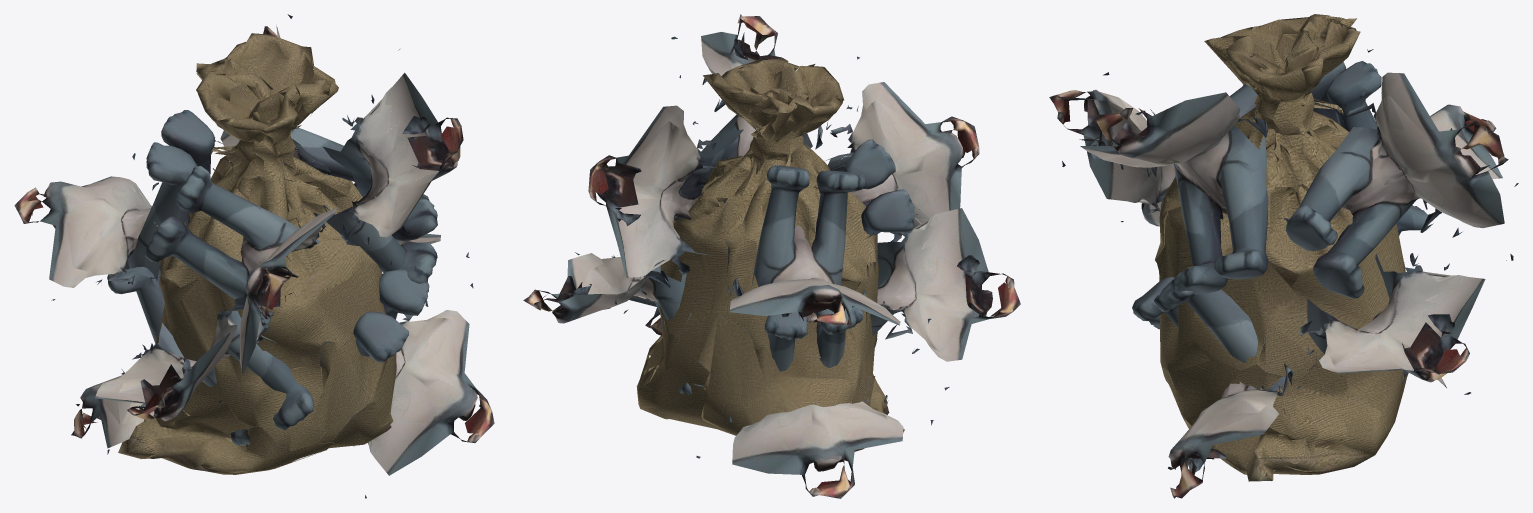
Rendered from catbag.glb.
3 views of the same model, side by side, from view 1: azimuth 30°, elevation 25°; view 2: azimuth 150°, elevation 25°; view 3: azimuth 270°, elevation 25° (orthographic). The views are drawn at different scales.
Visible parts, largest first — view 1: sack, paw-5, paw-4, paw-3, paw-1, paw-0, paw-2, paw-7; view 2: sack, paw-1, paw-3, paw-0, paw-2, paw-7, paw-6, paw-5; view 3: sack, paw-7, paw-5, paw-6, paw-4, paw-1, paw-3, paw-2.
Part boxes in pixels (x1=…): sack: x1=118, y1=33, x2=396, y2=474; paw-5: x1=322, y1=49, x2=463, y2=283; paw-4: x1=322, y1=269, x2=494, y2=498; paw-3: x1=14, y1=110, x2=223, y2=300; paw-1: x1=145, y1=166, x2=350, y2=402; paw-0: x1=76, y1=297, x2=313, y2=445; paw-2: x1=71, y1=264, x2=196, y2=454; paw-7: x1=213, y1=14, x2=362, y2=196; sack: x1=636, y1=58, x2=904, y2=451; paw-1: x1=826, y1=56, x2=979, y2=241; paw-3: x1=694, y1=165, x2=931, y2=326; paw-0: x1=854, y1=208, x2=1020, y2=390; paw-2: x1=696, y1=307, x2=933, y2=498; paw-7: x1=588, y1=75, x2=722, y2=313; paw-6: x1=523, y1=252, x2=704, y2=394; paw-5: x1=671, y1=14, x2=858, y2=203; sack: x1=1155, y1=14, x2=1408, y2=481; paw-7: x1=1277, y1=49, x2=1513, y2=298; paw-5: x1=1062, y1=89, x2=1268, y2=294; paw-6: x1=1297, y1=253, x2=1506, y2=417; paw-4: x1=1132, y1=266, x2=1293, y2=498; paw-1: x1=1049, y1=72, x2=1276, y2=222; paw-3: x1=1306, y1=61, x2=1518, y2=209; paw-2: x1=1396, y1=205, x2=1470, y2=394.
Bounding box in the file's own units: 1.15 × 1.1 × 1.09.
Materials: 2 (2 with a texture image).
